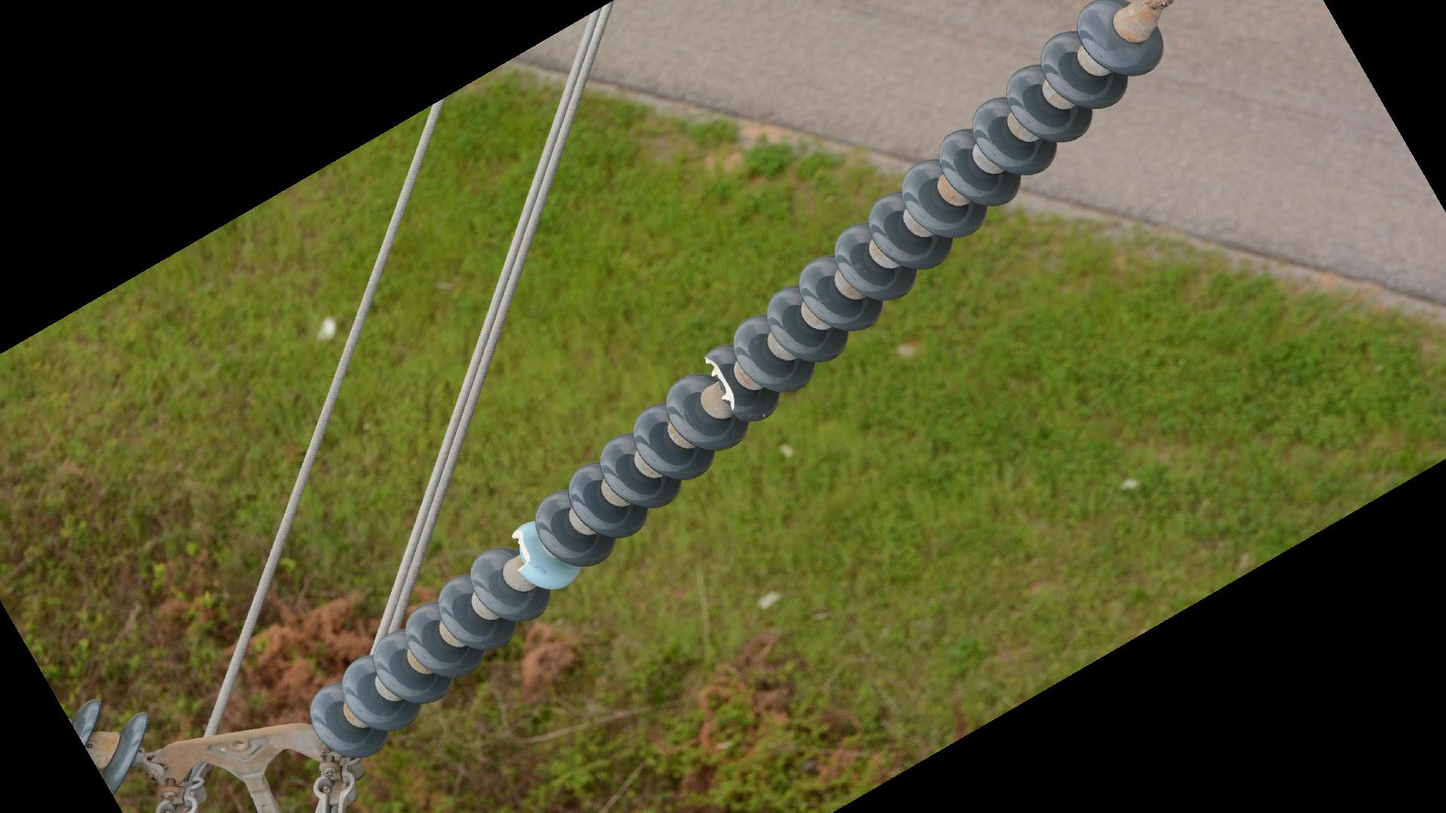insulator: (303, 1, 1170, 763), (60, 695, 153, 799)
insulator_breakage: (700, 351, 739, 417), (508, 525, 533, 576)
